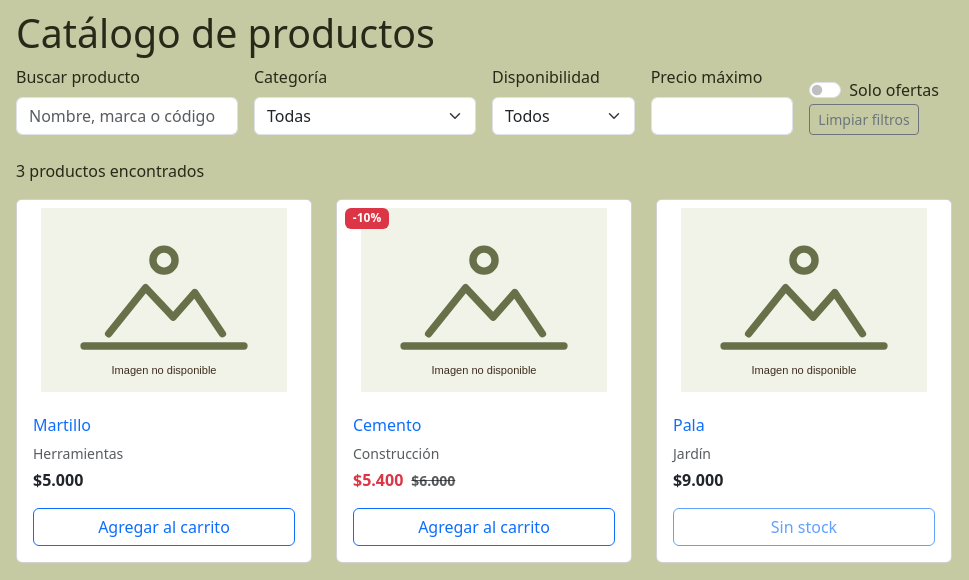
it: CatalogPage › filters by availability and clears filters
expect the text "3 productos encontrados" is shown: met, box [16,160,204,182]
Select "Sin stock" in the dropdown labelled "Disponibilidad" at (563, 116), box [492,97,635,135]
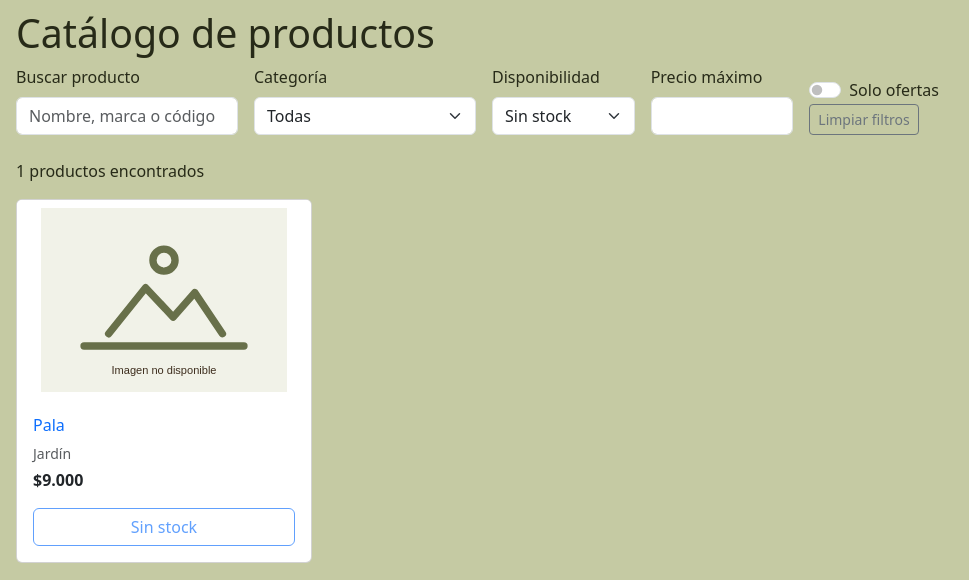
expect the text "1 productos encontrados" is shown: met, box [16,160,204,182]
Click the button "Limpiar filtros" at (864, 120), box [809,104,919,135]
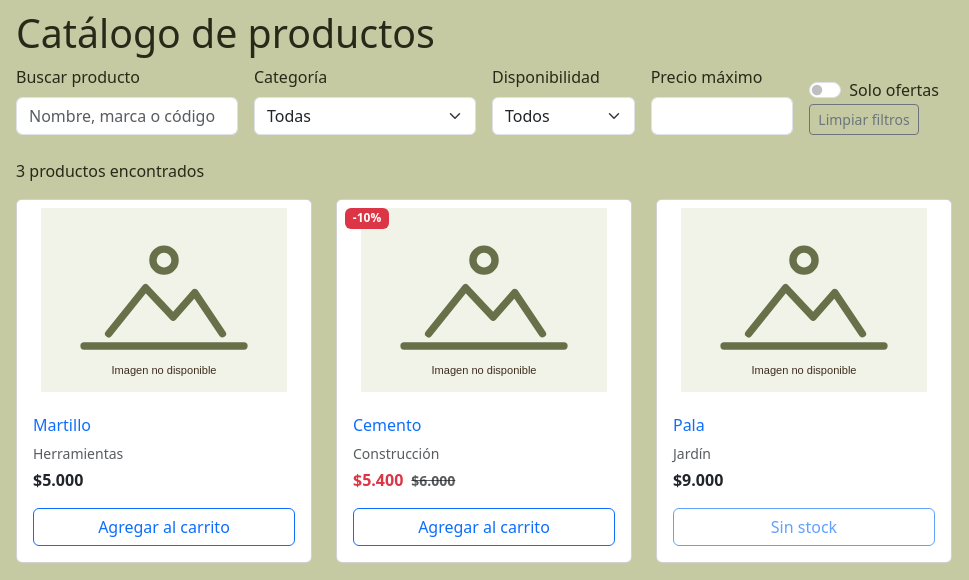
expect the text "3 productos encontrados" is shown: met, box [16,160,204,182]
